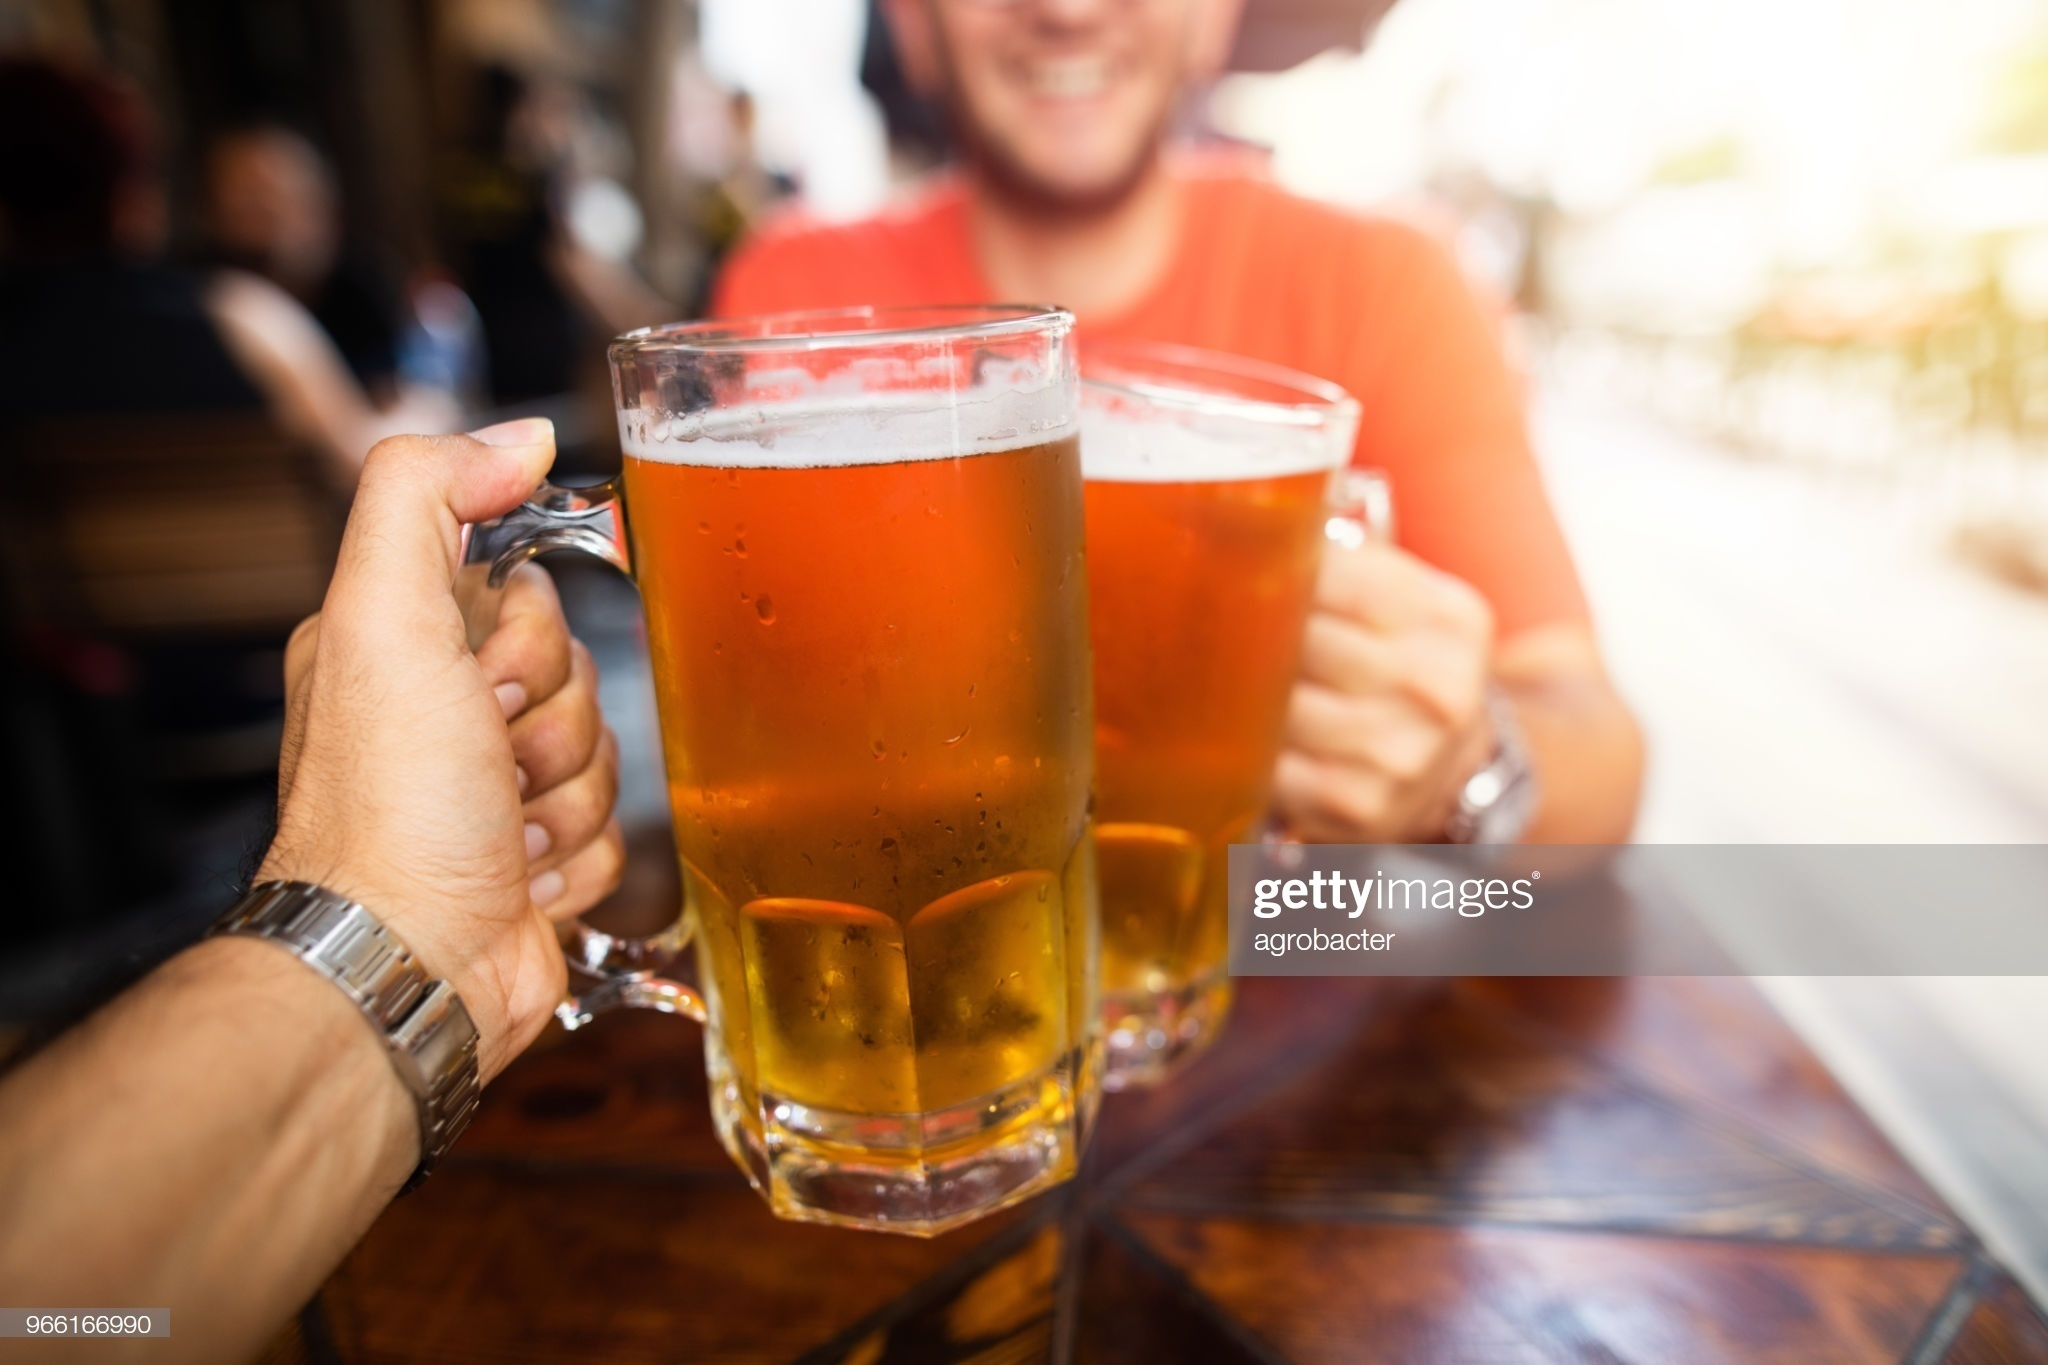whiskey: (649, 289, 1092, 1239)
